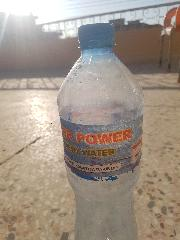plastic: (56, 22, 144, 239)
